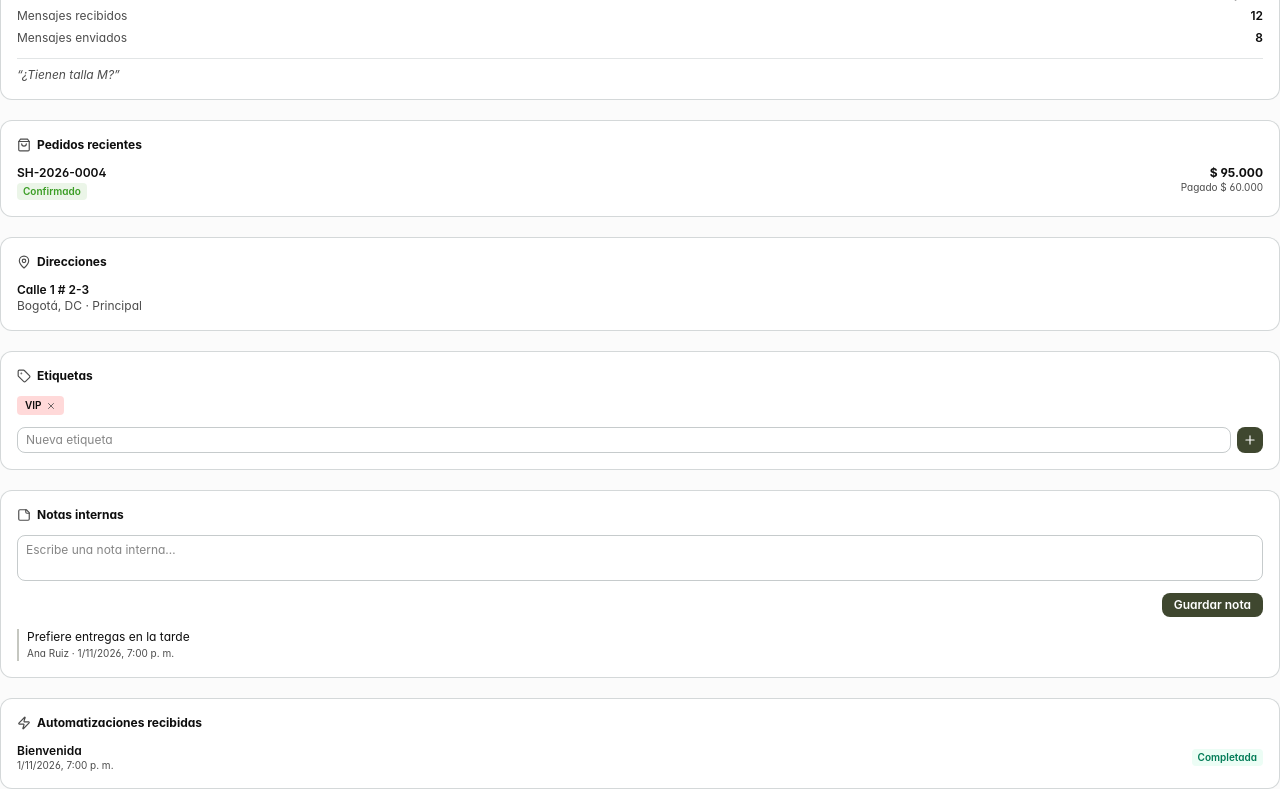
Test: CustomerProfilePanel › adds and removes tags
(page scrolled)
Type "  Mayorista " into the field with placeholder "Nueva etiqueta". click: (624, 440)
box: x1=17 y1=427 x2=1231 y2=453
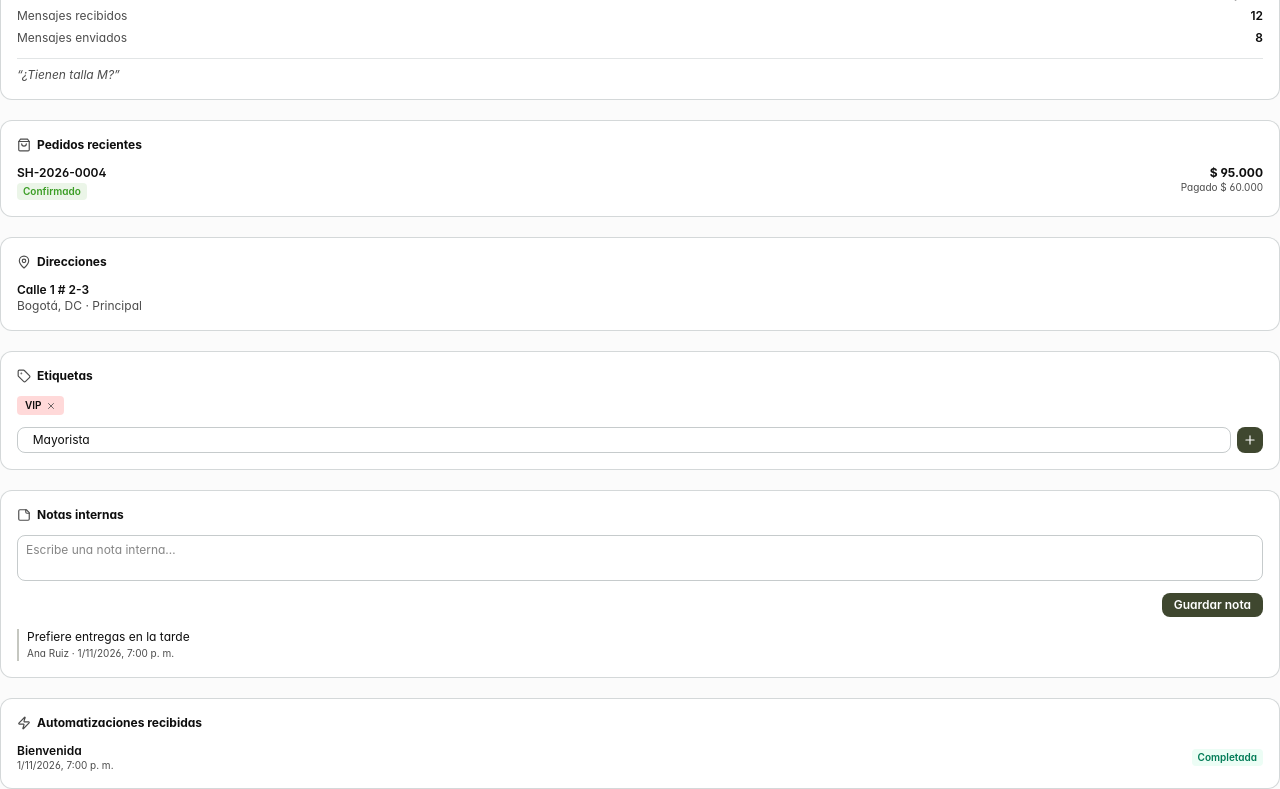
Click the button named "Agregar etiqueta". click: (1250, 440)
box: x1=1237 y1=427 x2=1263 y2=453
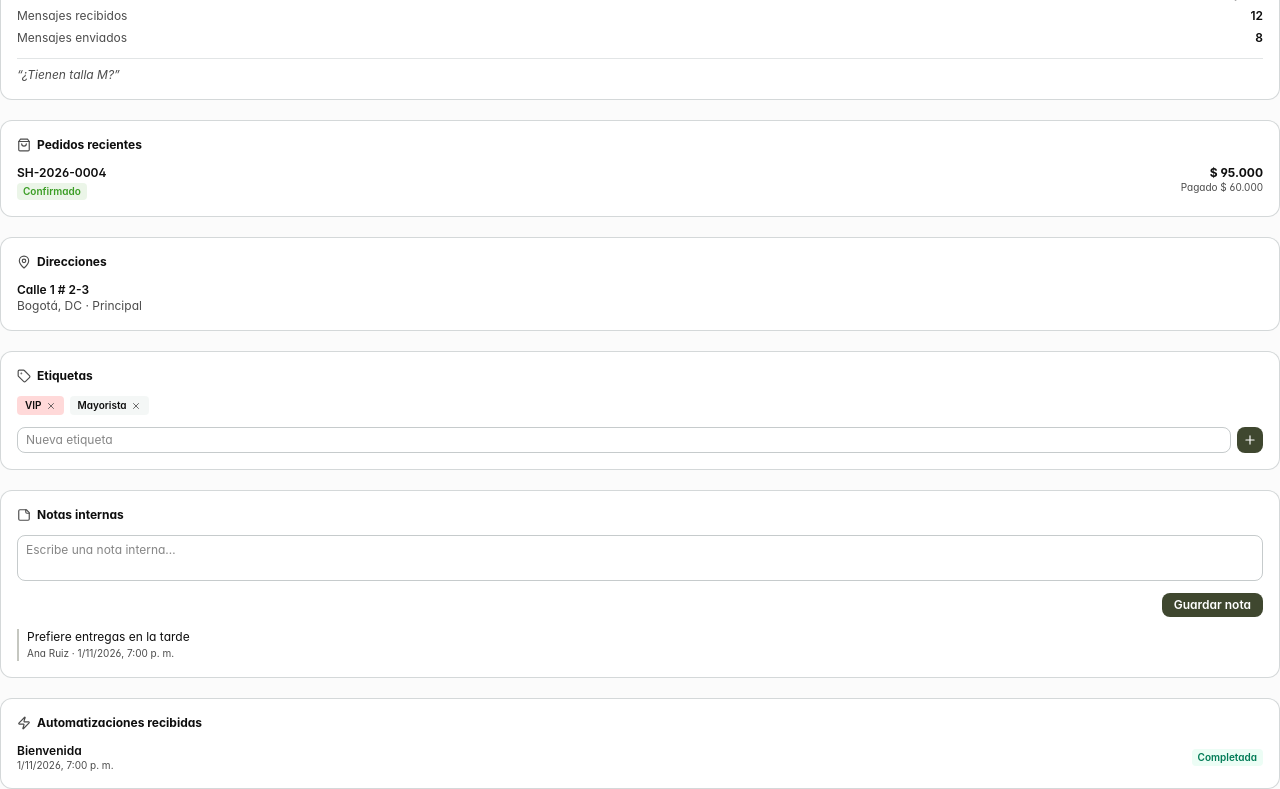
Result: the text "Mayorista" is shown at x1=70 y1=396 x2=149 y2=415
Click the button named "Quitar etiqueta VIP". click: (50, 406)
box: x1=46 y1=401 x2=56 y2=411
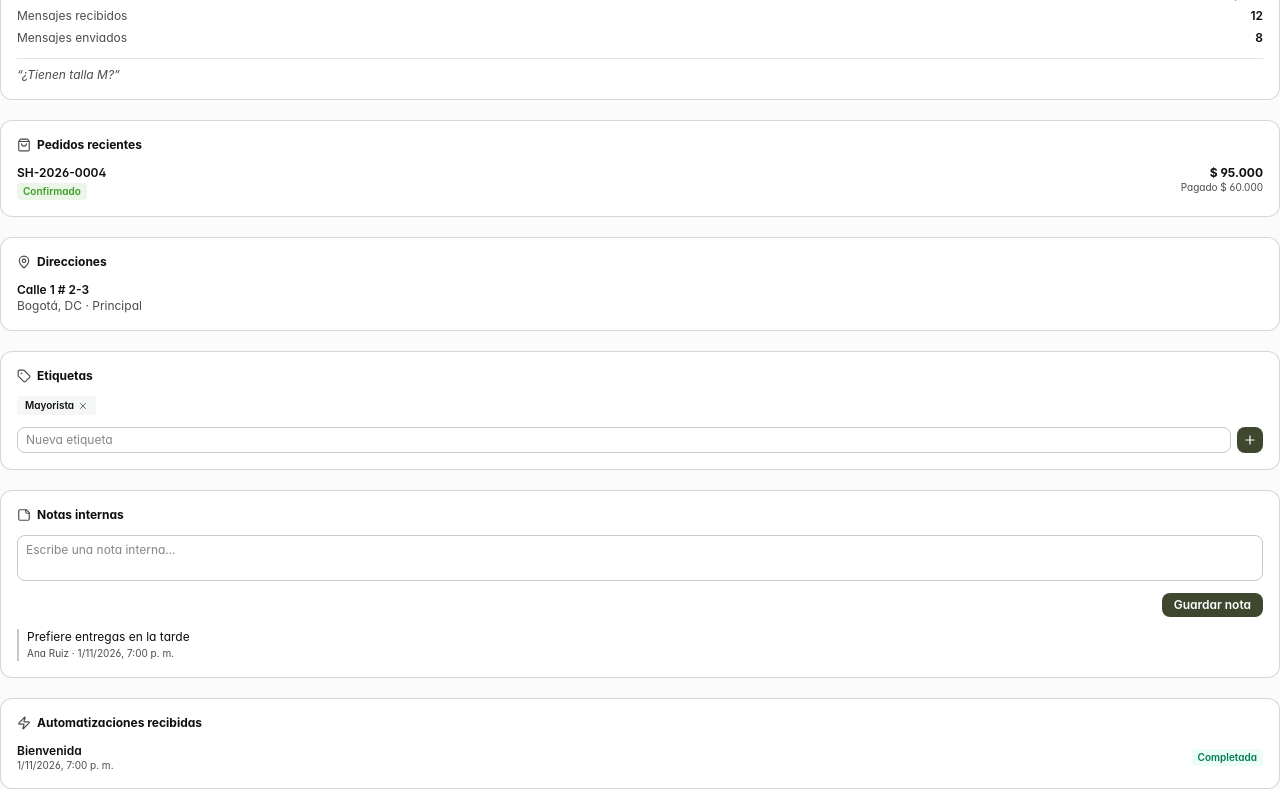
Result: the text "VIP" is gone
